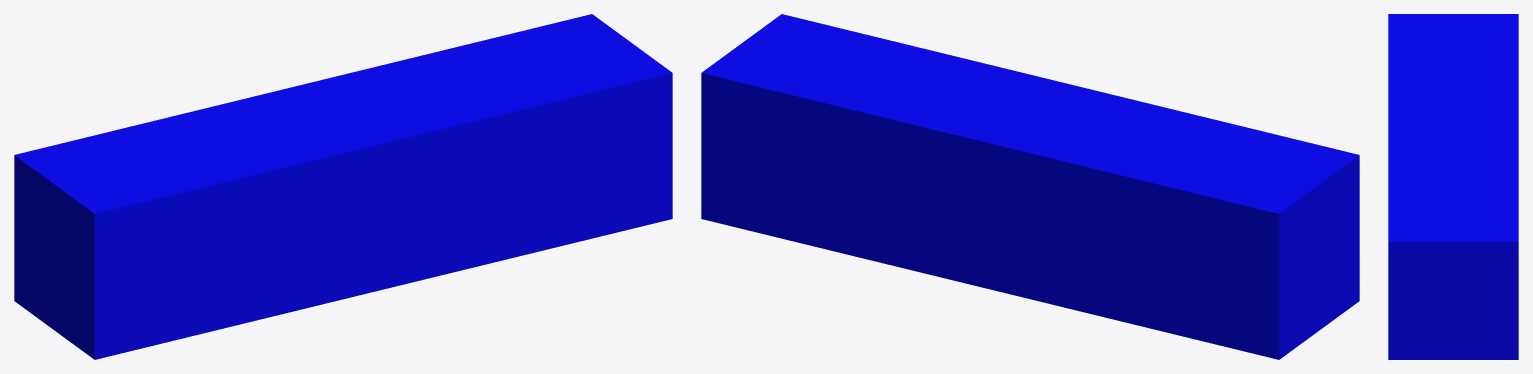
File: left.obj
3 views of the same model, side by side, from view 1: azimuth 30°, elevation 25°; view 2: azimuth 150°, elevation 25°; view 3: azimuth 270°, elevation 25° (orthographic). The views are drawn at different scales.
Parts seen in each view (by area): view 1: Cube_Cube.001; view 2: Cube_Cube.001; view 3: Cube_Cube.001.
Boxes of the visible parts, <box> form: Cube_Cube.001: <box>14,14,672,359</box>; Cube_Cube.001: <box>701,14,1359,359</box>; Cube_Cube.001: <box>1388,14,1518,359</box>.
Bounding box in the file's own units: 8.28 × 2 × 2.
1 material, 1 textured.
